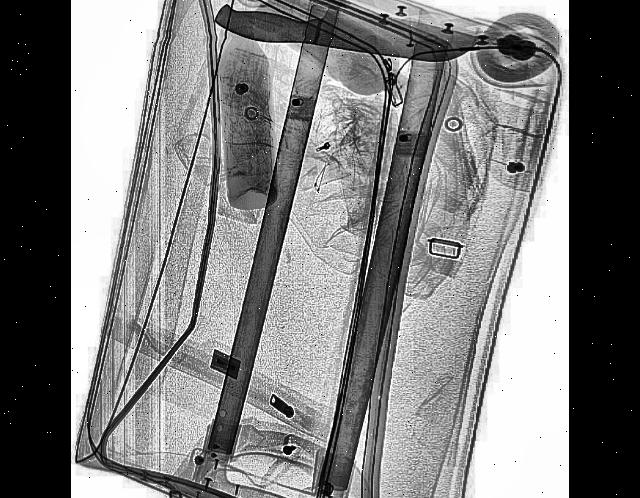Knife: (214, 0, 481, 69)
